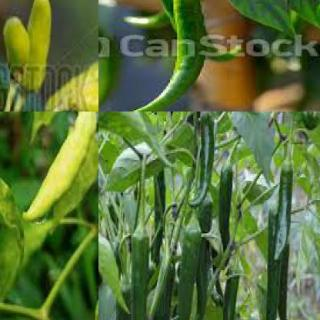green_chilli: (106, 0, 206, 111), (21, 112, 98, 226), (123, 0, 242, 26), (186, 115, 219, 208), (44, 58, 98, 111), (26, 0, 56, 93), (176, 226, 202, 319), (195, 205, 213, 319), (273, 168, 295, 260), (0, 14, 29, 78), (264, 210, 280, 319), (131, 229, 150, 319), (217, 162, 233, 256), (151, 176, 167, 265), (151, 263, 172, 319), (278, 246, 290, 320), (224, 272, 242, 319), (112, 282, 133, 320), (157, 0, 181, 32)
